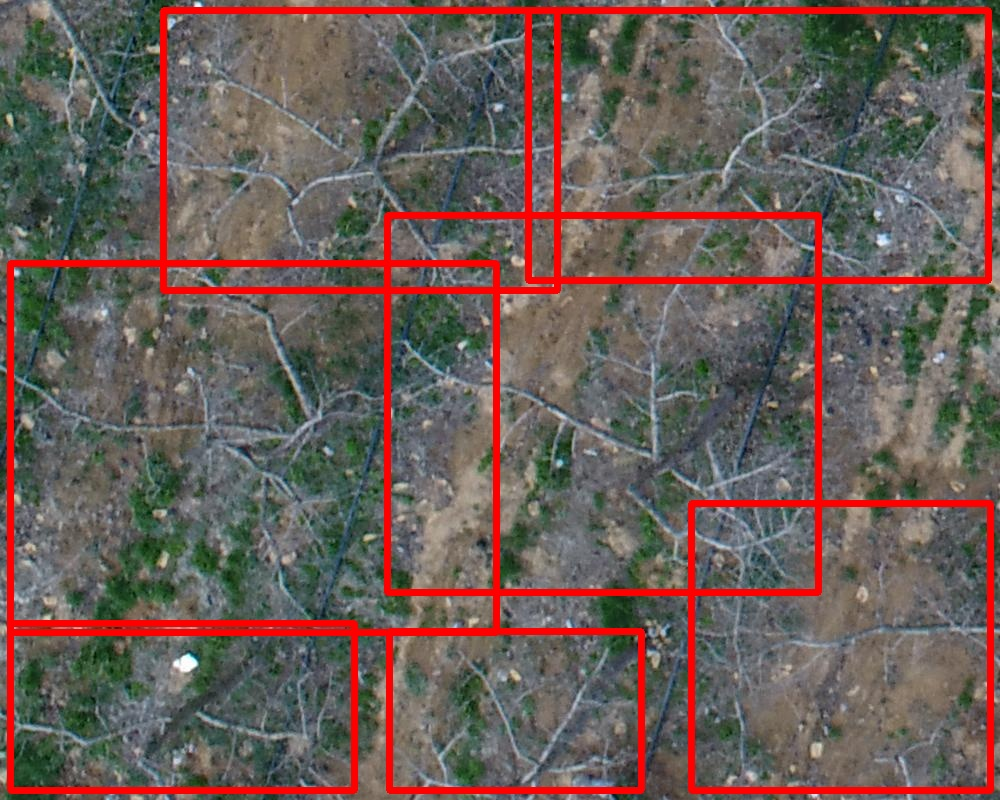apple: (10, 263, 496, 632), (387, 215, 818, 592), (528, 10, 988, 280), (163, 10, 557, 290), (691, 503, 990, 790), (10, 623, 354, 790), (389, 631, 641, 790)
